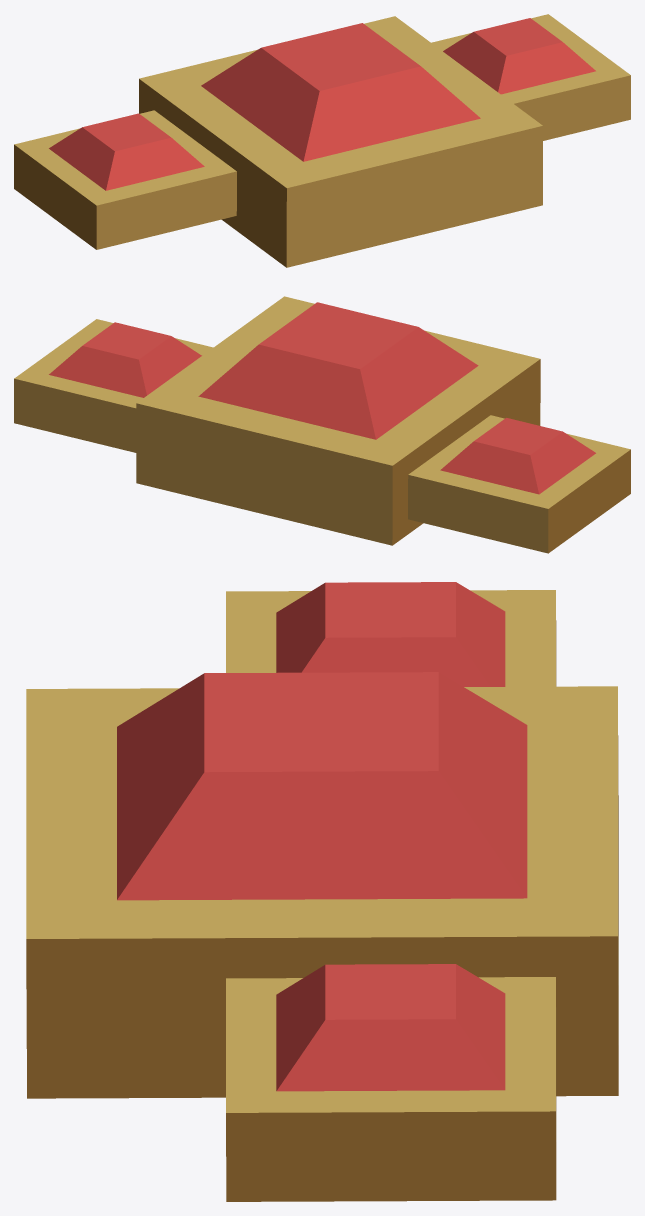
The model's file is SD_Prop_Gem_01.fbx.
The picture shows the model from 3 angles, top to bottom: view 1: azimuth 30°, elevation 25°; view 2: azimuth 150°, elevation 25°; view 3: azimuth 270°, elevation 25°; orthographic projection. The views are drawn at different scales.
Visible parts, largest first — view 1: SD_Prop_Gem_01; view 2: SD_Prop_Gem_01; view 3: SD_Prop_Gem_01.
Boxes of the visible parts, x1=… form: SD_Prop_Gem_01: x1=14, y1=14, x2=630, y2=267; SD_Prop_Gem_01: x1=14, y1=296, x2=630, y2=553; SD_Prop_Gem_01: x1=26, y1=582, x2=618, y2=1201.
Bounding box in the file's own units: 0.6192 × 0.1395 × 0.2973.
